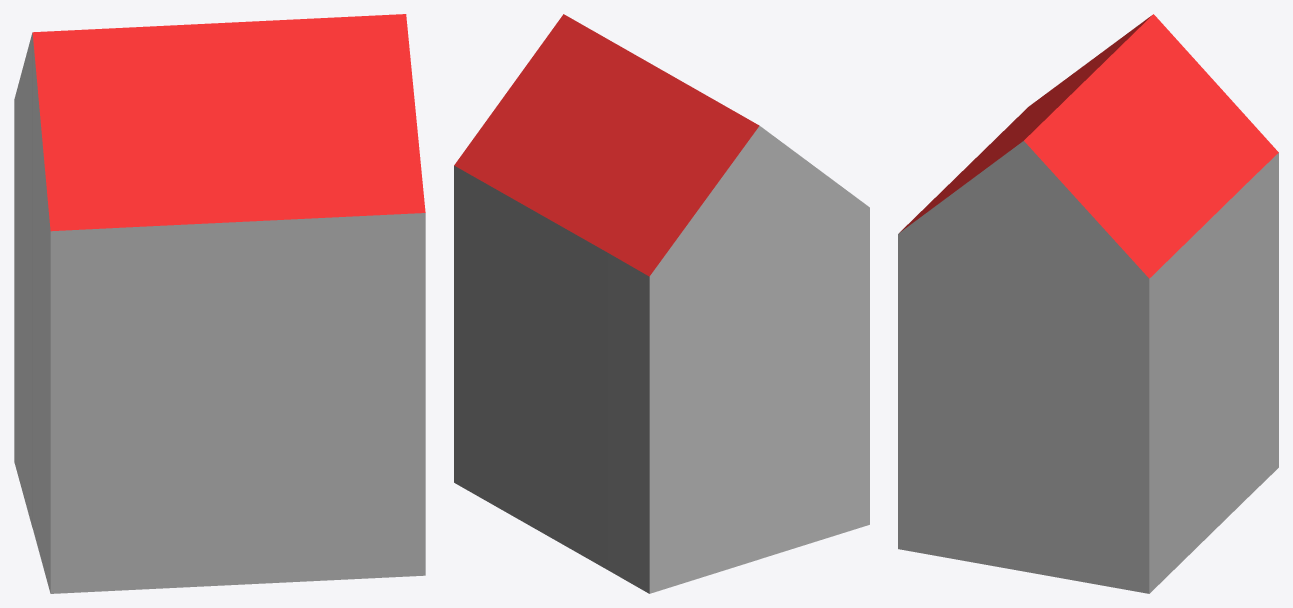
File: DEBY_LOD2_4907185.dae
3 views of the same model, side by side, from view 1: azimuth 30°, elevation 25°; view 2: azimuth 150°, elevation 25°; view 3: azimuth 270°, elevation 25° (orthographic). The views are drawn at different scales.
Bounding box in the file's own units: 17.3 × 16.18 × 20.2.
